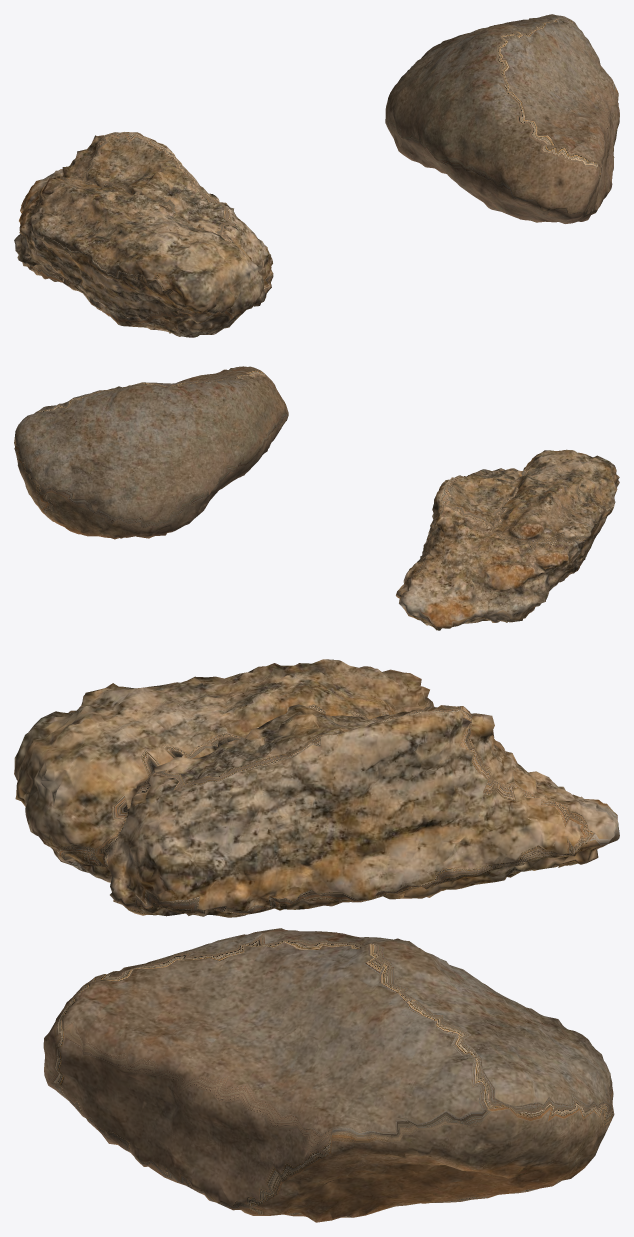
The model's file is bds.gltf.
The picture shows the model from 3 angles, top to bottom: view 1: azimuth 30°, elevation 25°; view 2: azimuth 150°, elevation 25°; view 3: azimuth 270°, elevation 25°; orthographic projection. The views are drawn at different scales.
Visible parts, largest first — view 1: namaqualand_rocks_01_a, namaqualand_rocks_01_b; view 2: namaqualand_rocks_01_a, namaqualand_rocks_01_b; view 3: namaqualand_rocks_01_a, namaqualand_rocks_01_b.
Boxes of the visible parts, x1,y1,x2,y2 form: namaqualand_rocks_01_a: (385,14,619,223); namaqualand_rocks_01_b: (14,132,273,337); namaqualand_rocks_01_a: (14,366,288,539); namaqualand_rocks_01_b: (396,449,619,630); namaqualand_rocks_01_a: (43,928,614,1222); namaqualand_rocks_01_b: (14,659,619,917).
Bounding box in the file's own units: 1.06 × 0.2503 × 0.5836.
1 material, 1 textured.
